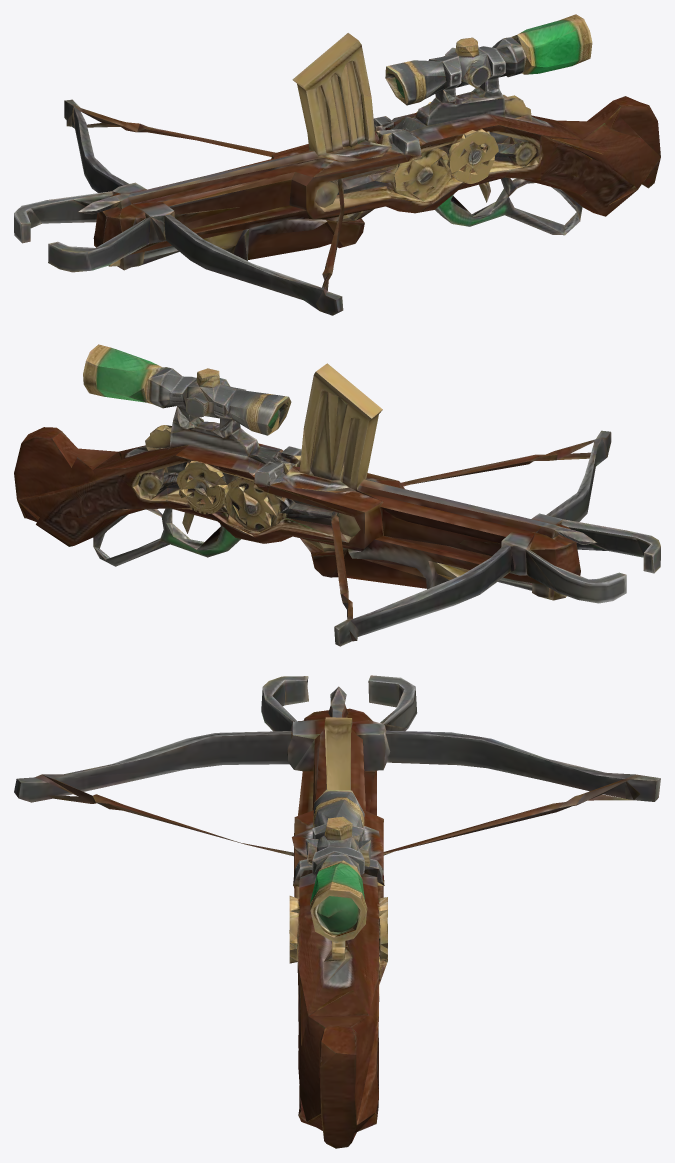
The model's file is jiguan.glb.
3 renders of one model, top to bottom at view 1: azimuth 30°, elevation 25°; view 2: azimuth 150°, elevation 25°; view 3: azimuth 270°, elevation 25°, orthographic. The views are drawn at different scales.
Bounding box in the file's own units: 1.9 × 0.7239 × 1.45.
1 material, 1 textured.
